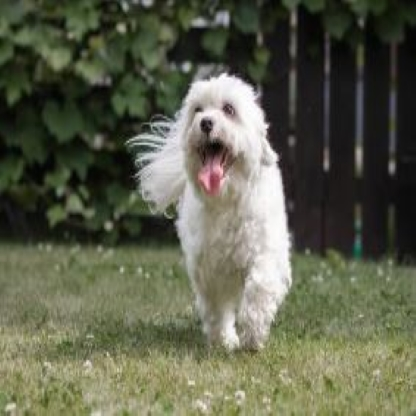maltese: (125, 71, 295, 352)
